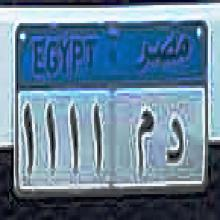1: (90, 103, 104, 170), (45, 101, 58, 170), (22, 102, 35, 170), (68, 104, 79, 167)
daal: (162, 113, 188, 167)
meem: (132, 107, 156, 171)
